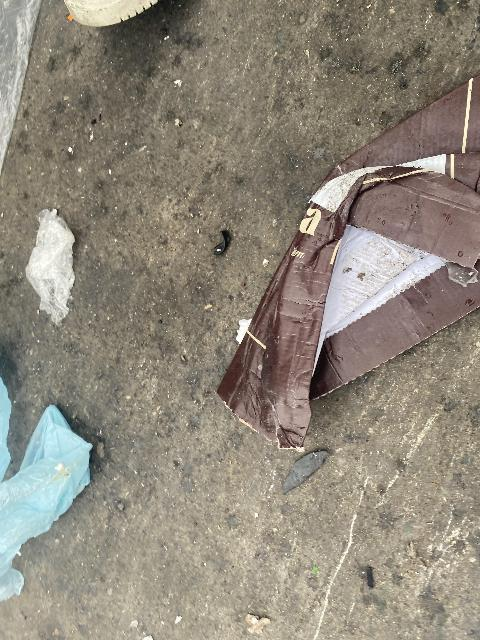Kagit: (217, 73, 480, 453)
Plastik: (0, 374, 94, 601), (25, 208, 77, 325)
